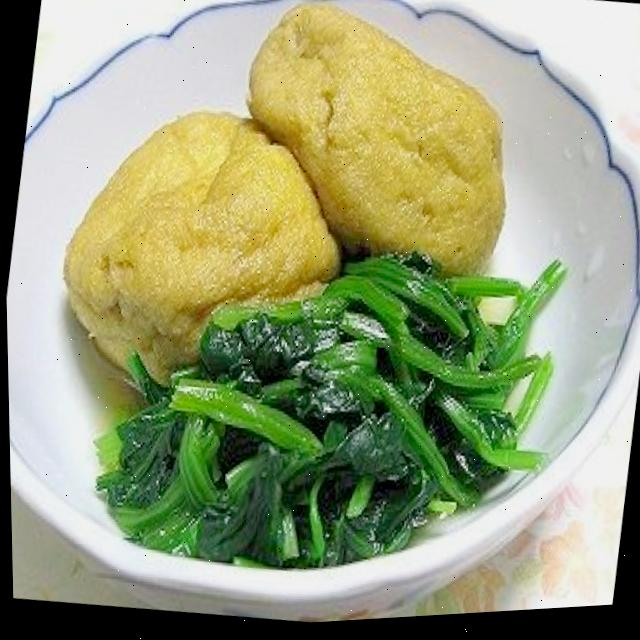熟制海鲜: (1, 0, 639, 591)
